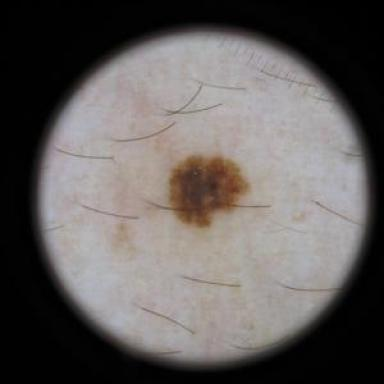Melanoma: (169, 155, 248, 227)
